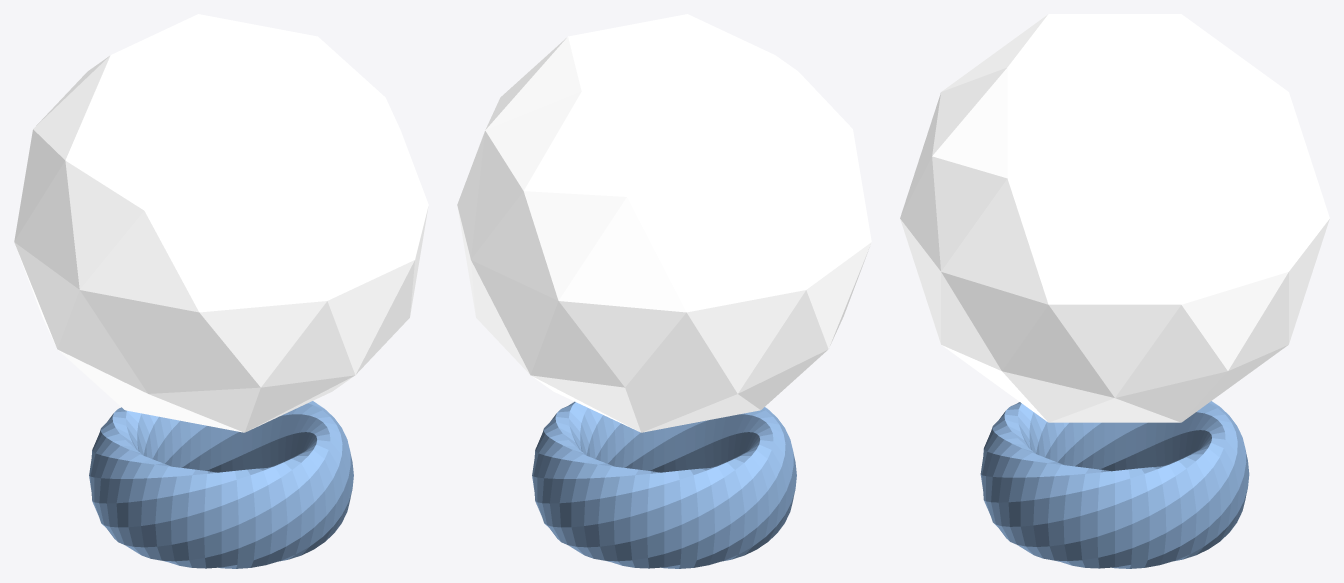
Rendered from Character.glb.
The picture shows the model from 3 angles, left to right: view 1: azimuth 30°, elevation 25°; view 2: azimuth 150°, elevation 25°; view 3: azimuth 270°, elevation 25°; orthographic projection.
Visible parts, largest first — view 1: Esfera geodésica, TwistedTorus; view 2: Esfera geodésica, TwistedTorus; view 3: Esfera geodésica, TwistedTorus.
Part boxes in pixels (<box>): Esfera geodésica: <box>14,14,428,432</box>; TwistedTorus: <box>89,401,353,568</box>; Esfera geodésica: <box>457,14,871,432</box>; TwistedTorus: <box>532,401,796,568</box>; Esfera geodésica: <box>900,14,1329,422</box>; TwistedTorus: <box>980,401,1249,568</box>.
Bounding box in the file's own units: 1.9 × 2.56 × 2.
Materials: 2 (2 with a texture image).
